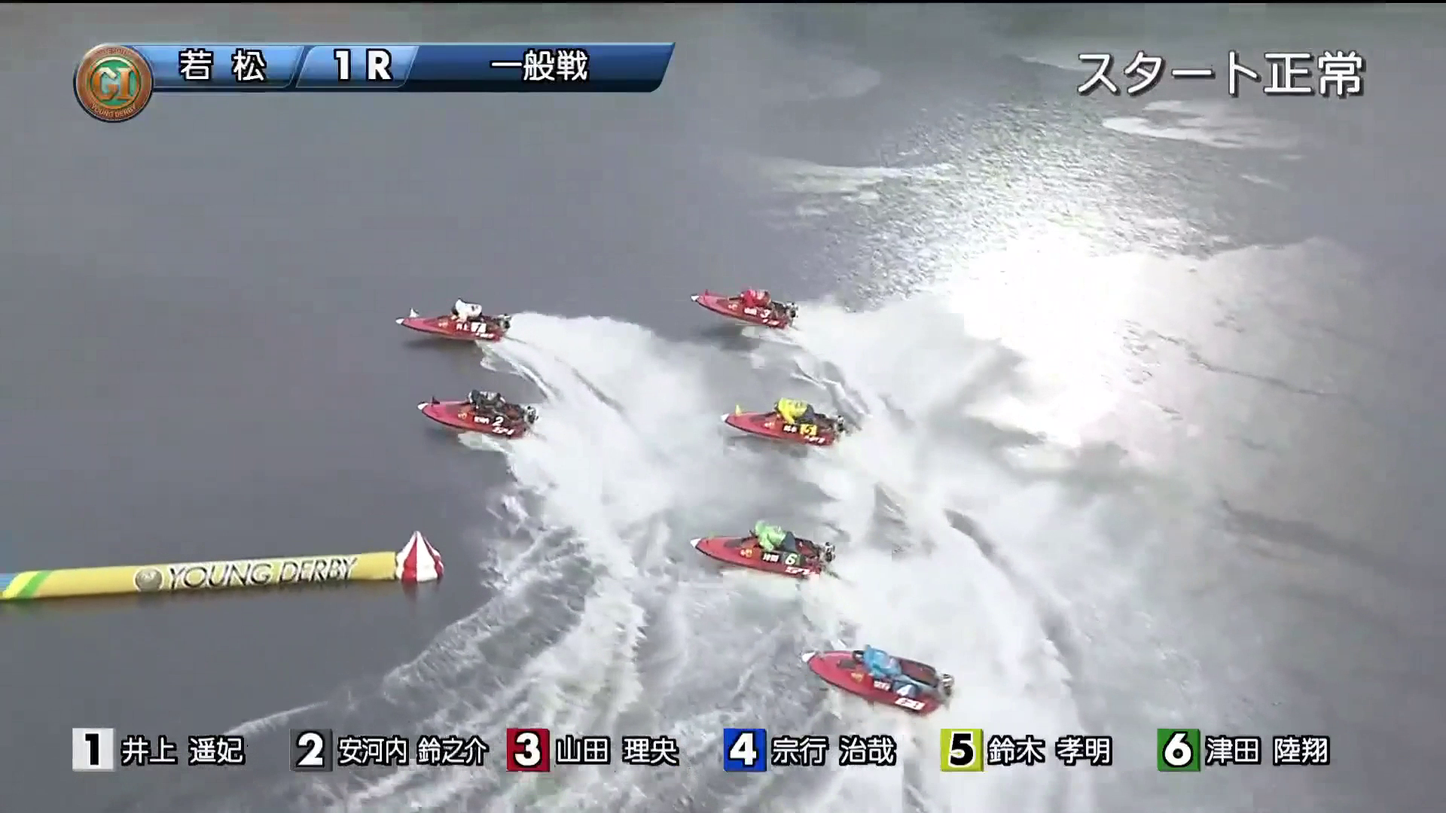１号艇: (440, 286, 510, 339)
２号艇: (425, 370, 554, 431)
３号艇: (717, 273, 815, 323)
４号艇: (723, 513, 857, 579)
５号艇: (829, 654, 953, 709)
６号艇: (741, 357, 841, 437)
